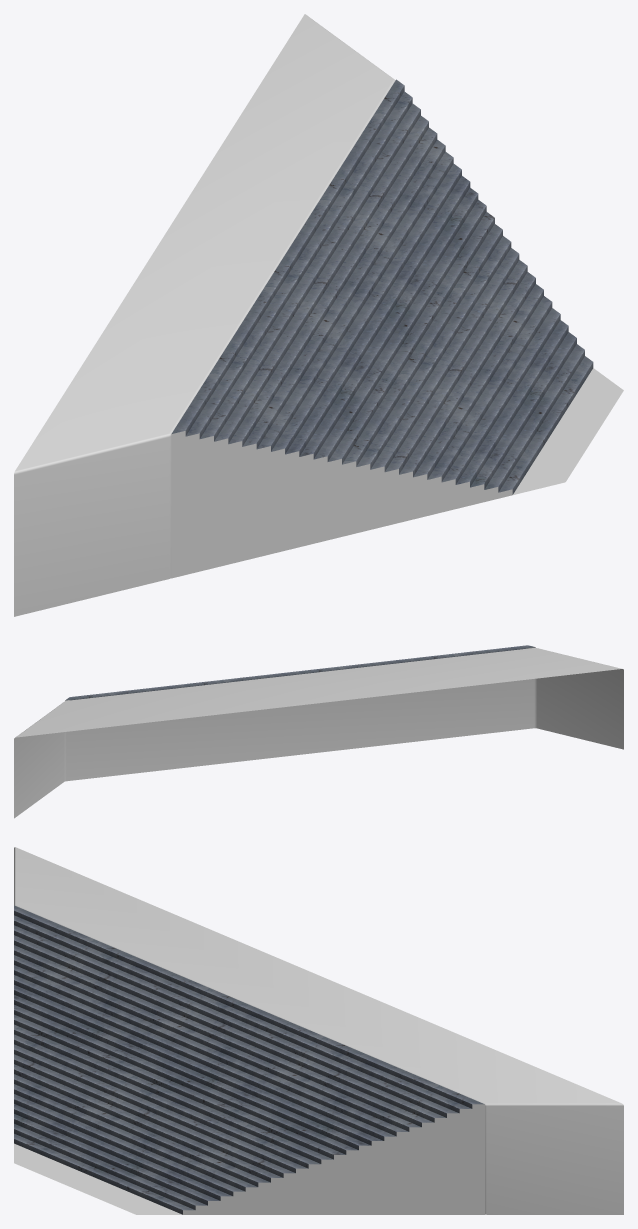
The model's file is SM_Bleacher_Floor_Stairs_Corner.fbx.
3 renders of one model, top to bottom at view 1: azimuth 30°, elevation 25°; view 2: azimuth 150°, elevation 25°; view 3: azimuth 270°, elevation 25°, orthographic. The views are drawn at different scales.
Visible parts, largest first — view 1: SM_Bleacher_Floor_Stairs_Corner.001; view 2: SM_Bleacher_Floor_Stairs_Corner.001; view 3: SM_Bleacher_Floor_Stairs_Corner.001.
Part boxes in pixels (box(x1,y1,x2,y2)): SM_Bleacher_Floor_Stairs_Corner.001: box(14, 14, 623, 616); SM_Bleacher_Floor_Stairs_Corner.001: box(14, 645, 623, 818); SM_Bleacher_Floor_Stairs_Corner.001: box(14, 847, 623, 1214).
Bounding box in the file's own units: 3000 × 600 × 3000.
